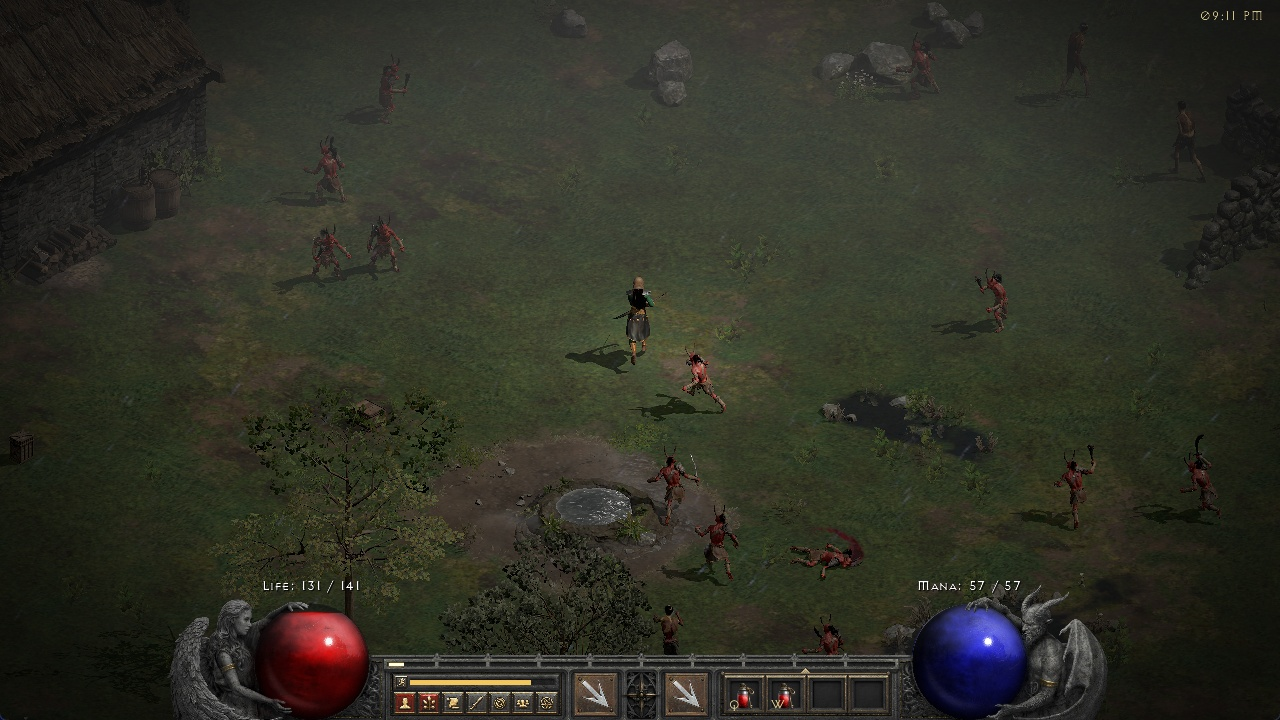fallen: (1049, 446, 1111, 533), (676, 345, 737, 421), (692, 505, 748, 582), (1175, 433, 1223, 521), (646, 449, 703, 518), (302, 132, 353, 206), (368, 55, 423, 122), (901, 36, 946, 107), (361, 216, 414, 276), (801, 615, 853, 668), (972, 272, 1018, 331), (312, 222, 351, 281)
